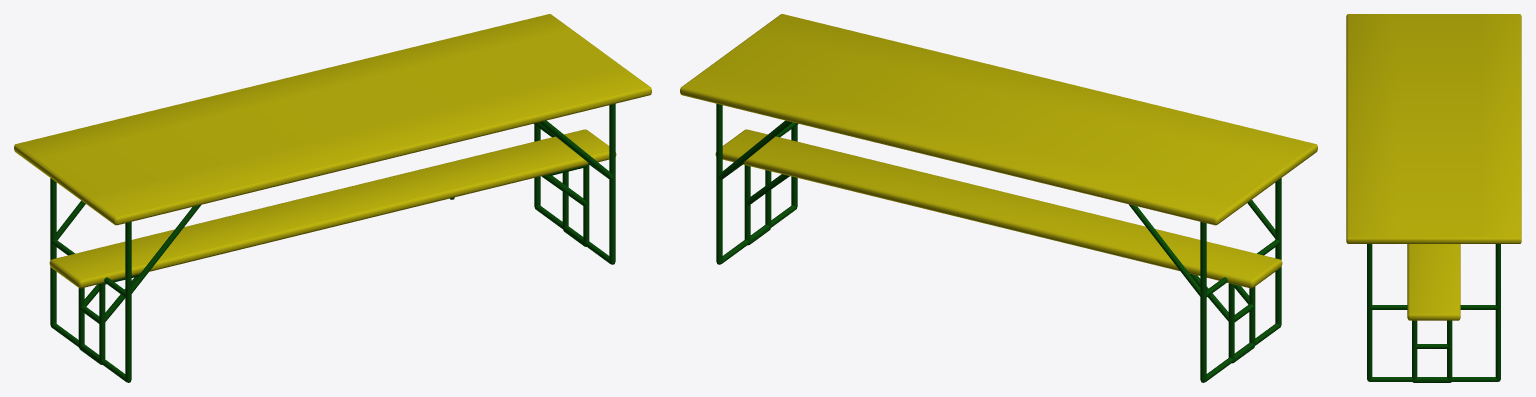
Rendered from Beer-Bench.fbx.
3 views of the same model, side by side, from view 1: azimuth 30°, elevation 25°; view 2: azimuth 150°, elevation 25°; view 3: azimuth 270°, elevation 25° (orthographic). The views are drawn at different scales.
Parts seen in each view (by area): view 1: Biertisch_1, Bierbank, Würfel_2; view 2: Biertisch_1, Bierbank, Würfel_2; view 3: Biertisch_1, Bierbank, Würfel_2.
Boxes of the visible parts, bbox=[...] form: Biertisch_1: bbox=[14, 14, 651, 382]; Bierbank: bbox=[49, 129, 616, 288]; Würfel_2: bbox=[78, 164, 589, 364]; Biertisch_1: bbox=[680, 14, 1317, 382]; Bierbank: bbox=[715, 129, 1282, 288]; Würfel_2: bbox=[744, 165, 1255, 363]; Biertisch_1: bbox=[1346, 14, 1521, 381]; Bierbank: bbox=[1407, 244, 1460, 320]; Würfel_2: bbox=[1412, 320, 1452, 382].
Bounding box in the file's own units: 200 × 64.75 × 65.9.
